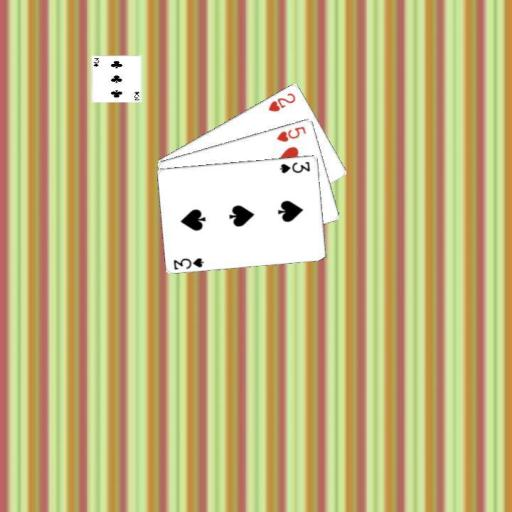2H: (265, 90, 297, 113)
3S: (277, 158, 312, 174), (171, 255, 205, 270)
5H: (274, 123, 308, 143)
